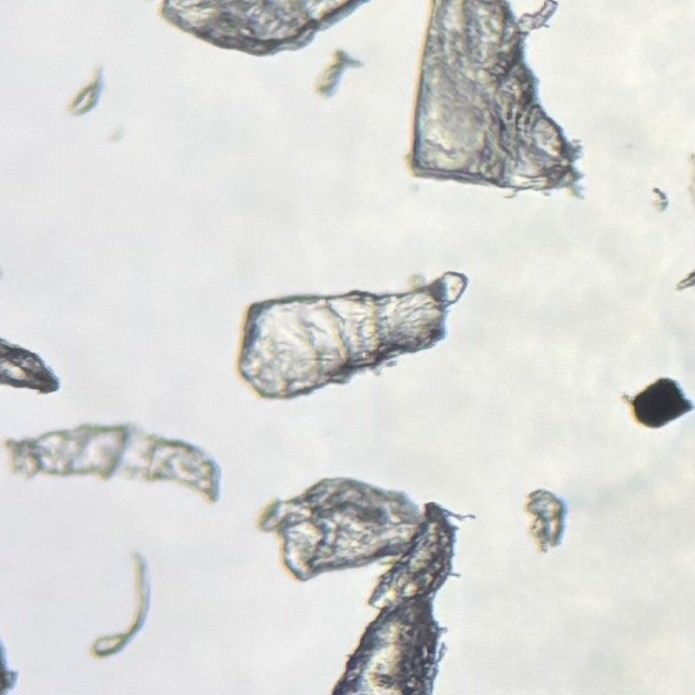microplastic: (257, 477, 479, 695), (403, 1, 584, 202), (237, 269, 471, 402), (1, 420, 221, 505), (153, 1, 374, 57), (89, 550, 152, 659), (621, 377, 695, 430), (1, 332, 61, 396), (523, 487, 566, 553), (314, 49, 363, 99), (67, 66, 107, 118), (1, 639, 18, 695), (651, 184, 669, 217), (674, 268, 695, 294)
